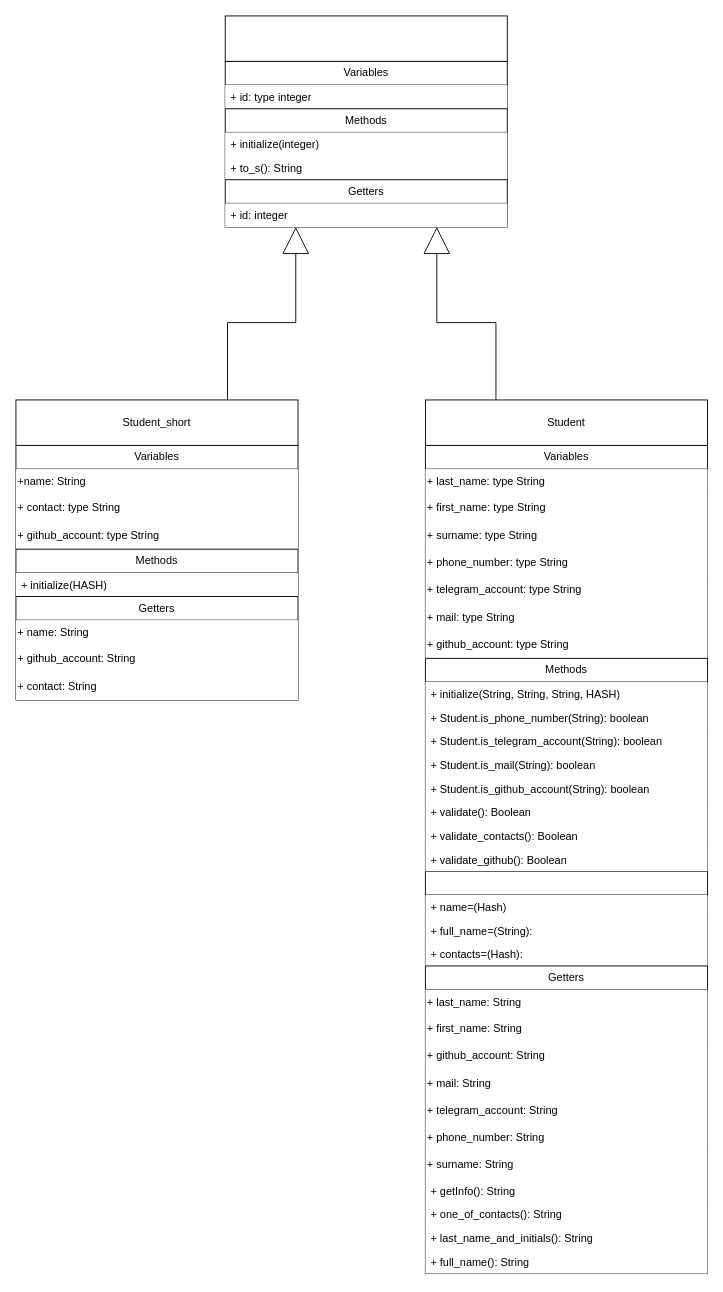
Some shapes in this 723 by 1292 pixel diagram are drawn without their labels. Each missing label, with the box of its shape:
People: (224, 15, 507, 61)
Setters: (425, 870, 708, 966)
